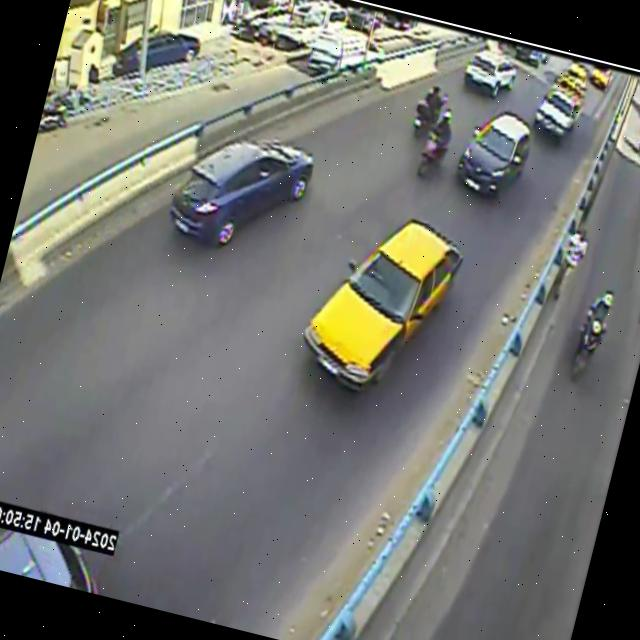car: (304, 220, 463, 389), (170, 141, 314, 245), (0, 530, 98, 593), (457, 111, 530, 193), (464, 49, 517, 98), (534, 86, 580, 139), (565, 63, 587, 93)
